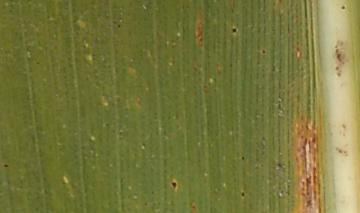tarspot: (169, 178, 179, 189), (228, 26, 240, 35), (238, 190, 247, 200), (339, 4, 348, 13), (259, 48, 268, 56), (2, 161, 10, 168), (240, 154, 246, 162), (116, 22, 122, 29)
